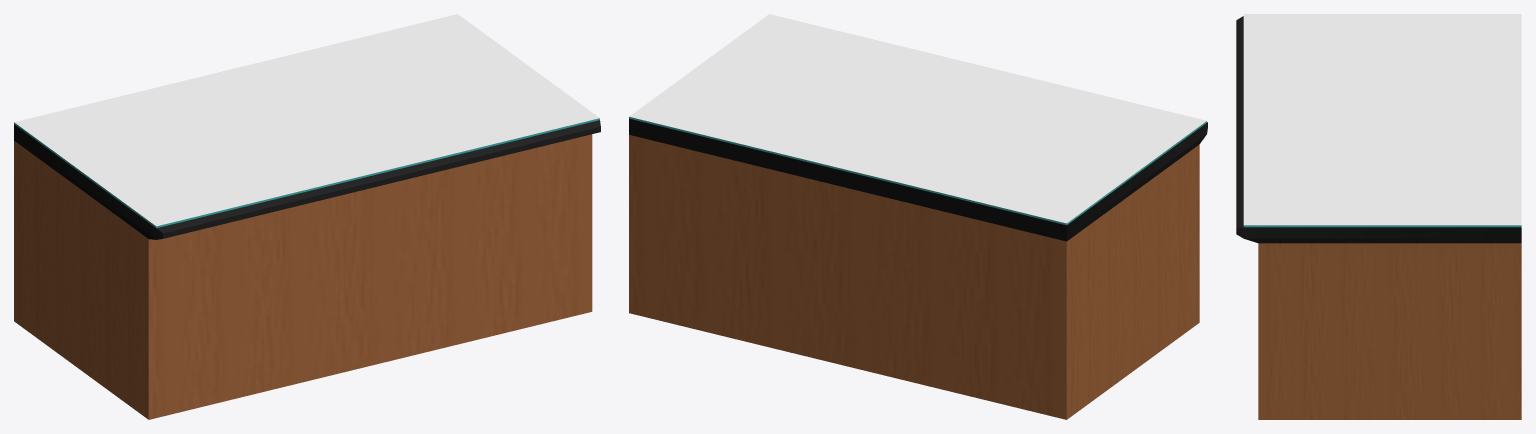
Rendered from Counter_02.FBX.
3 renders of one model, left to right at view 1: azimuth 30°, elevation 25°; view 2: azimuth 150°, elevation 25°; view 3: azimuth 270°, elevation 25°, orthographic. The views are drawn at different scales.
Parts seen in each view (by area): view 1: Countertop; view 2: Countertop; view 3: Countertop.
Boxes of the visible parts, box(x1,y1,x2,y2) form: Countertop: box(14, 14, 600, 419); Countertop: box(629, 14, 1207, 419); Countertop: box(1236, 14, 1521, 419).
Bounding box in the file's own units: 350 × 150 × 199.
